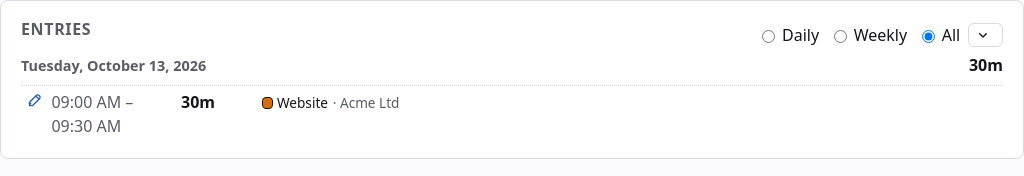
Test: the period (item 22) › keeps the list for all entries, and summarises for daily
Check: the text "Website" is shown, box [277,93,328,112]
Click the radio button labelled "Daily" at (768, 36), box [762,30,775,43]
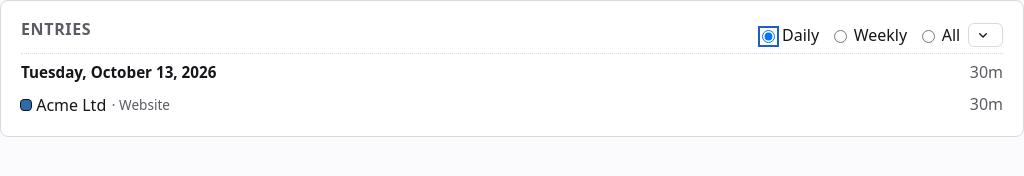
Check: the element with test id "entry-summary" is shown, box [21,53,1003,120]
